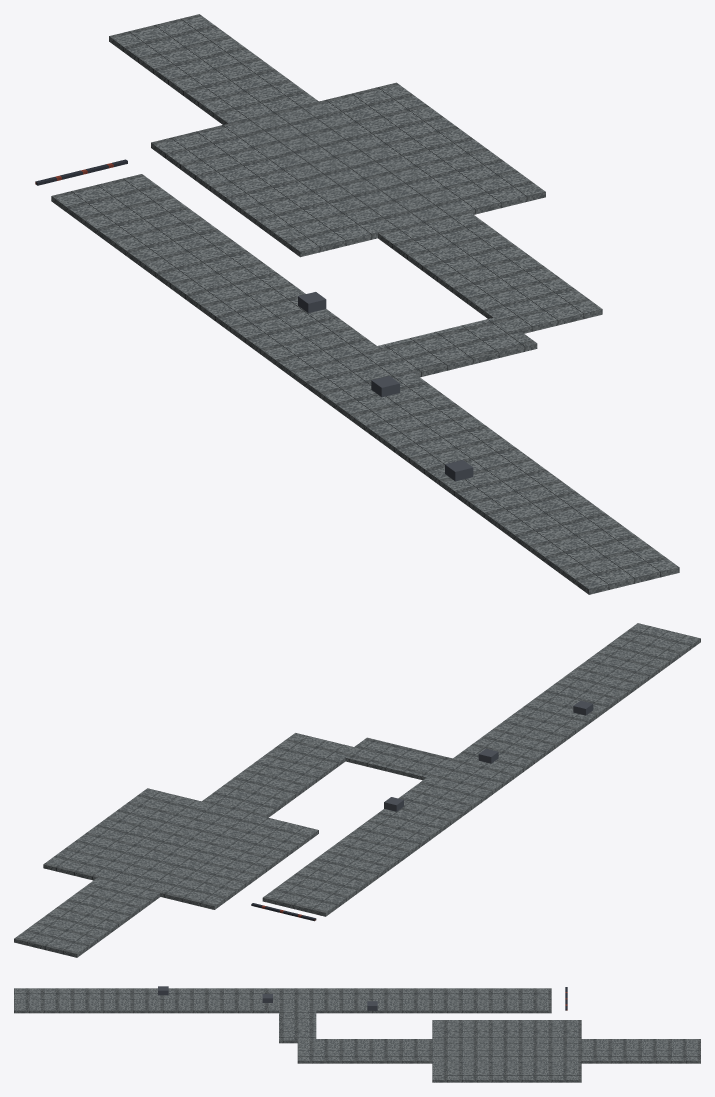
Rendered from MB_C_Removable_Roofs.fbx.
3 views of the same model, one above another, from view 1: azimuth 30°, elevation 25°; view 2: azimuth 150°, elevation 25°; view 3: azimuth 270°, elevation 25° (orthographic). The views are drawn at different scales.
Visible parts, largest first — view 1: MB_C_Removable_Roofs_Dressing_3_1, MB_C_Removable_Roofs_Dressing_1_0, MB_C_Removable_Roofs_Dressing_3_0, MB_C_Removable_Roofs_Dressing_2_0, SideConnectorRoof; view 2: MB_C_Removable_Roofs_Dressing_3_1, MB_C_Removable_Roofs_Dressing_3_0, MB_C_Removable_Roofs_Dressing_1_0, MB_C_Removable_Roofs_Dressing_2_0, SideConnectorRoof; view 3: MB_C_Removable_Roofs_Dressing_3_1, MB_C_Removable_Roofs_Dressing_3_0, MB_C_Removable_Roofs_Dressing_1_0, MB_C_Removable_Roofs_Dressing_2_0, SideConnectorRoof.
Part boxes in pixels (x1,y1,x2,y2): MB_C_Removable_Roofs_Dressing_3_1: (109, 14, 602, 333); MB_C_Removable_Roofs_Dressing_1_0: (410, 436, 679, 594); MB_C_Removable_Roofs_Dressing_3_0: (51, 174, 305, 332); MB_C_Removable_Roofs_Dressing_2_0: (230, 309, 499, 463); SideConnectorRoof: (371, 317, 537, 377); MB_C_Removable_Roofs_Dressing_3_1: (14, 733, 357, 957); MB_C_Removable_Roofs_Dressing_3_0: (262, 809, 450, 916); MB_C_Removable_Roofs_Dressing_1_0: (513, 623, 700, 733); MB_C_Removable_Roofs_Dressing_2_0: (398, 714, 575, 824); SideConnectorRoof: (345, 737, 456, 780); MB_C_Removable_Roofs_Dressing_3_1: (297, 1020, 700, 1082); MB_C_Removable_Roofs_Dressing_3_0: (372, 988, 551, 1013); MB_C_Removable_Roofs_Dressing_1_0: (14, 988, 193, 1013); MB_C_Removable_Roofs_Dressing_2_0: (193, 988, 372, 1013); SideConnectorRoof: (279, 1009, 316, 1043).
Size of the model in its own units: 2900 by 110 by 9200.
3 materials, 2 textured.
